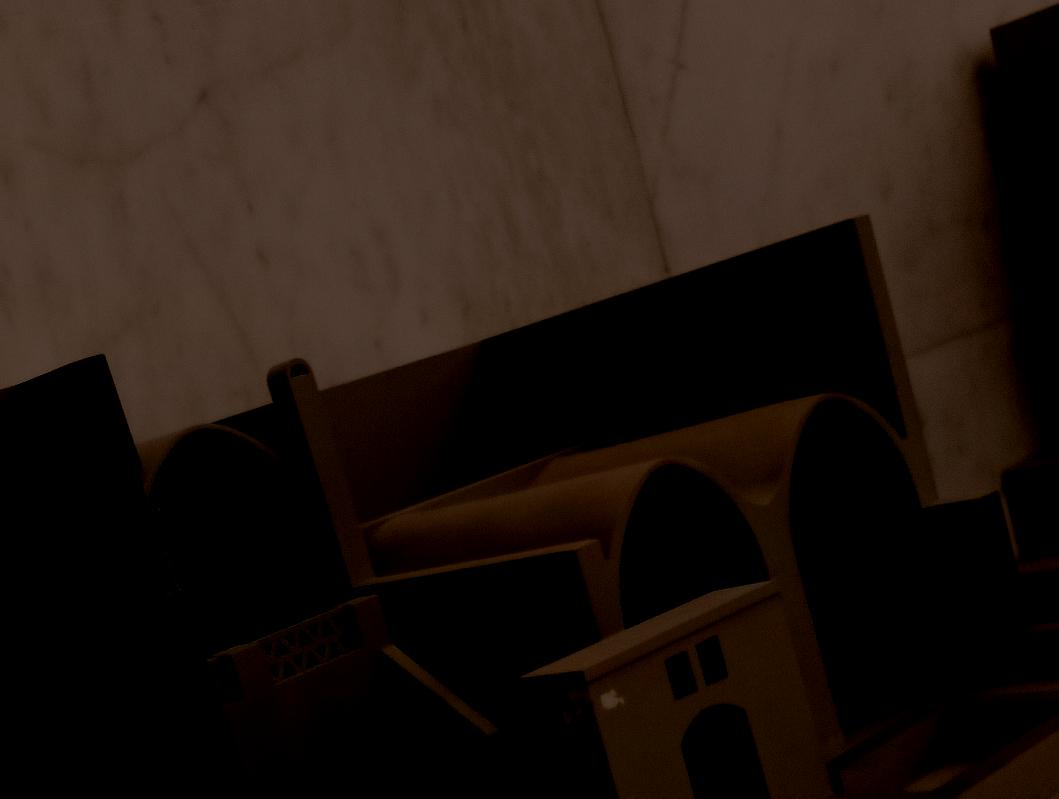HassanFathi: (0, 199, 1059, 799)
